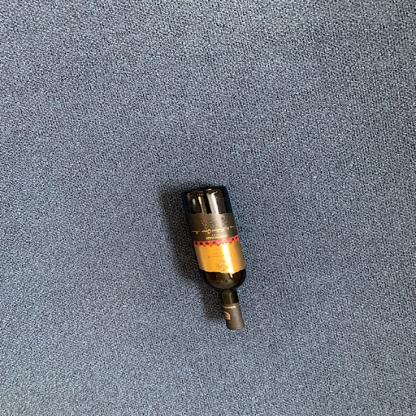trash: (180, 186, 248, 334)
